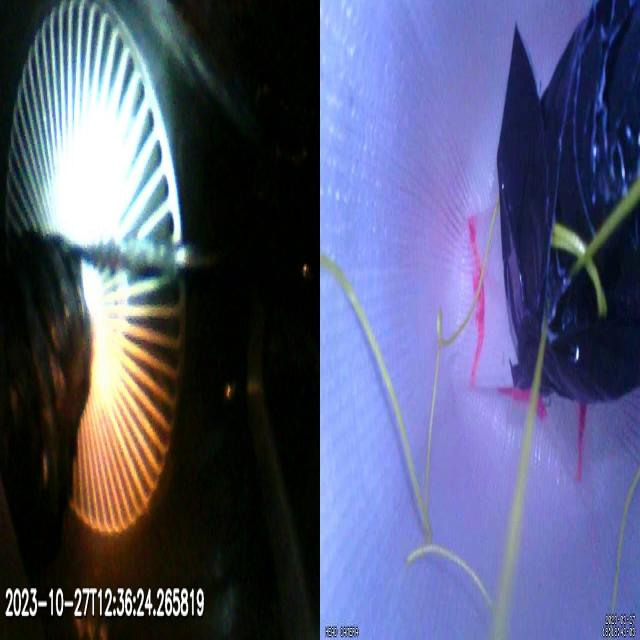red-circle: (466, 216, 584, 479)
